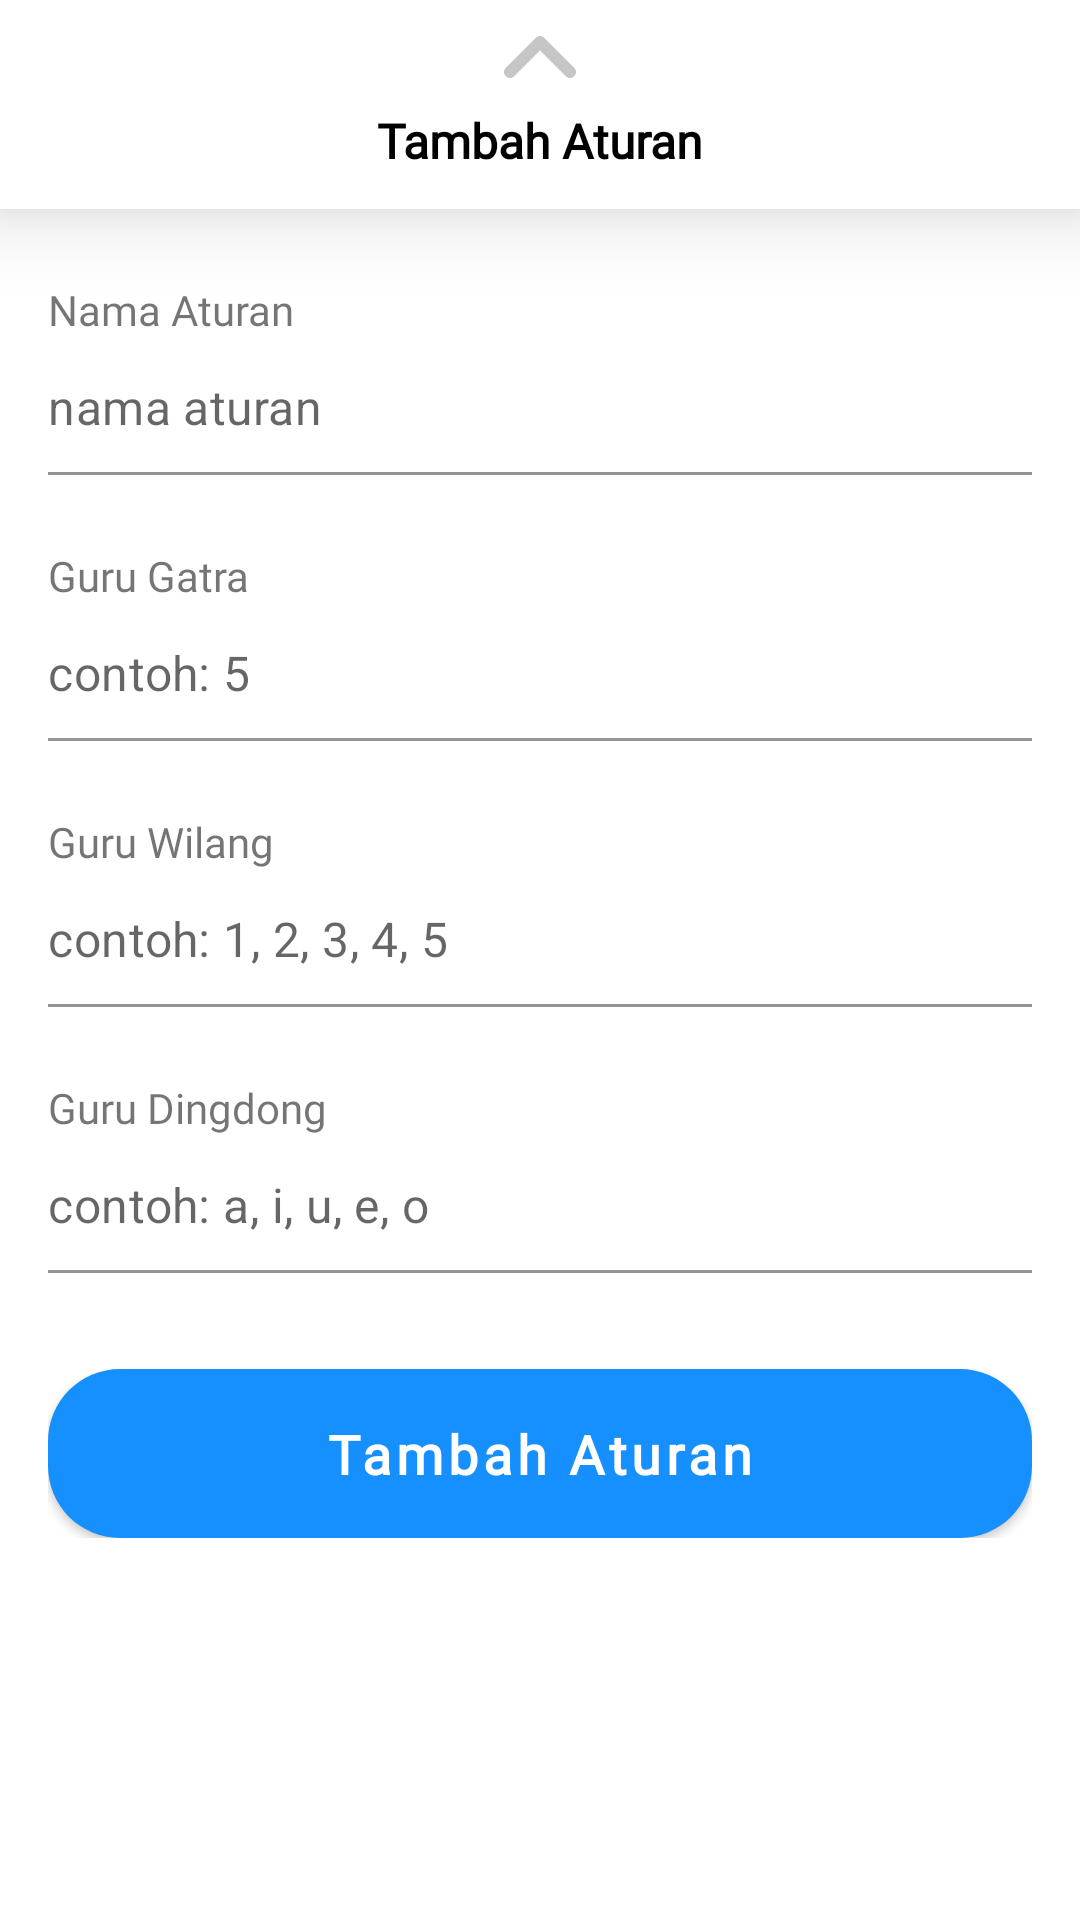

Icons on this 1080*1920 Android screen, each with its box as (x1, y1, x2, y2):
arrow top: (504, 36, 576, 78)
